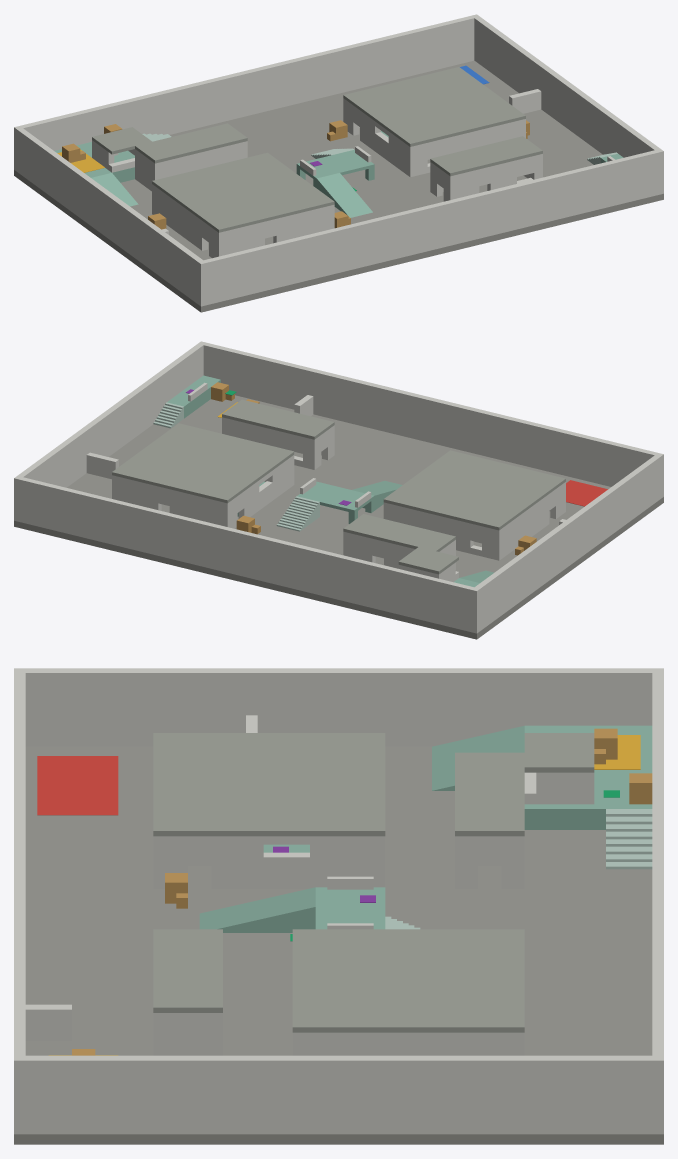
The model's file is arena_blockout.glb.
3 views of the same model, one above another, from view 1: azimuth 30°, elevation 25°; view 2: azimuth 150°, elevation 25°; view 3: azimuth 270°, elevation 25° (orthographic). The views are drawn at different scales.
Parts seen in each view (by area): view 1: wall_s, wall_n, ground, wall_w, roof_store, roof_workshop, wall_e, roof_se, roof_nw, store_spawn_side_2, store_lane_end_2, deck_ramp (+13 smaller); view 2: wall_n, wall_s, ground, wall_w, roof_workshop, roof_store, wall_e, roof_se, roof_nw, workshop_spawn_side_0, store_lane_end_2, workshop_spawn_side_2 (+14 smaller); view 3: ground, wall_e, wall_w, roof_workshop, roof_store, roof_nw, roof_se, wall_n, wall_s, plateau, spawn_attack, workshop_lane_end_0 (+16 smaller).
Part boxes in pixels (<box>): wall_s: <box>197,149,663,306</box>; wall_n: <box>14,14,479,171</box>; ground: <box>14,60,663,312</box>; wall_w: <box>17,128,202,303</box>; roof_store: <box>152,152,334,232</box>; roof_workshop: <box>343,67,525,146</box>; wall_e: <box>474,17,660,157</box>; roof_se: <box>430,136,542,176</box>; roof_nw: <box>135,123,247,163</box>; store_spawn_side_2: <box>273,204,334,243</box>; store_lane_end_2: <box>155,186,207,250</box>; deck_ramp: <box>316,173,372,217</box>; wall_n: <box>14,476,480,633</box>; wall_s: <box>198,341,663,498</box>; ground: <box>14,395,663,639</box>; wall_w: <box>475,455,660,630</box>; roof_workshop: <box>112,423,294,503</box>; roof_store: <box>383,450,565,530</box>; wall_e: <box>17,344,203,487</box>; roof_se: <box>222,399,334,439</box>; roof_nw: <box>343,514,455,551</box>; workshop_spawn_side_0: <box>169,489,230,527</box>; store_lane_end_2: <box>502,494,549,557</box>; workshop_spawn_side_2: <box>112,475,161,510</box>; ground: <box>14,746,663,1144</box>; wall_e: <box>25,1055,652,1134</box>; wall_w: <box>25,668,652,746</box>; roof_workshop: <box>292,929,524,1032</box>; roof_store: <box>153,733,385,836</box>; roof_nw: <box>455,752,524,836</box>; roof_se: <box>153,929,222,1012</box>; wall_n: <box>652,668,663,1134</box>; wall_s: <box>14,668,25,1134</box>; plateau: <box>524,725,652,829</box>; spawn_attack: <box>37,756,118,815</box>; workshop_lane_end_0: <box>304,1032,466,1055</box>.
Size of the model in its own units: 80 by 8 by 56.
